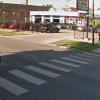Crosswalk: (3, 54, 98, 89)
